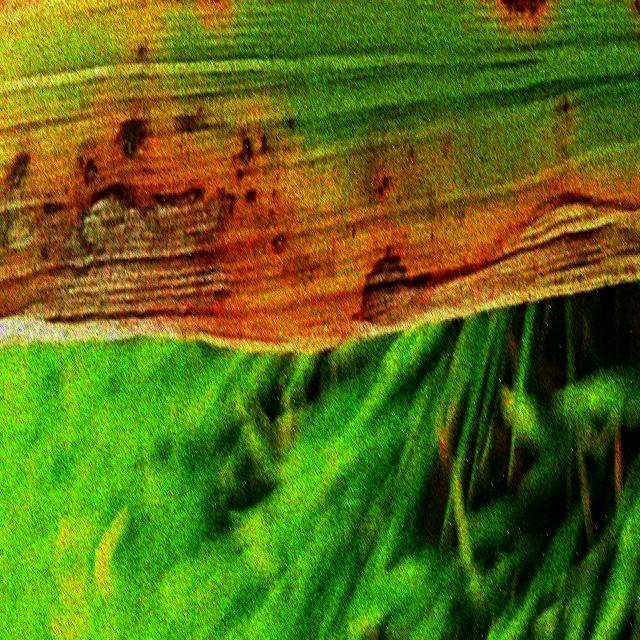LEAF BLAST: (0, 153, 234, 348), (351, 203, 640, 334), (115, 119, 147, 159), (501, 0, 546, 15), (83, 155, 97, 187)
